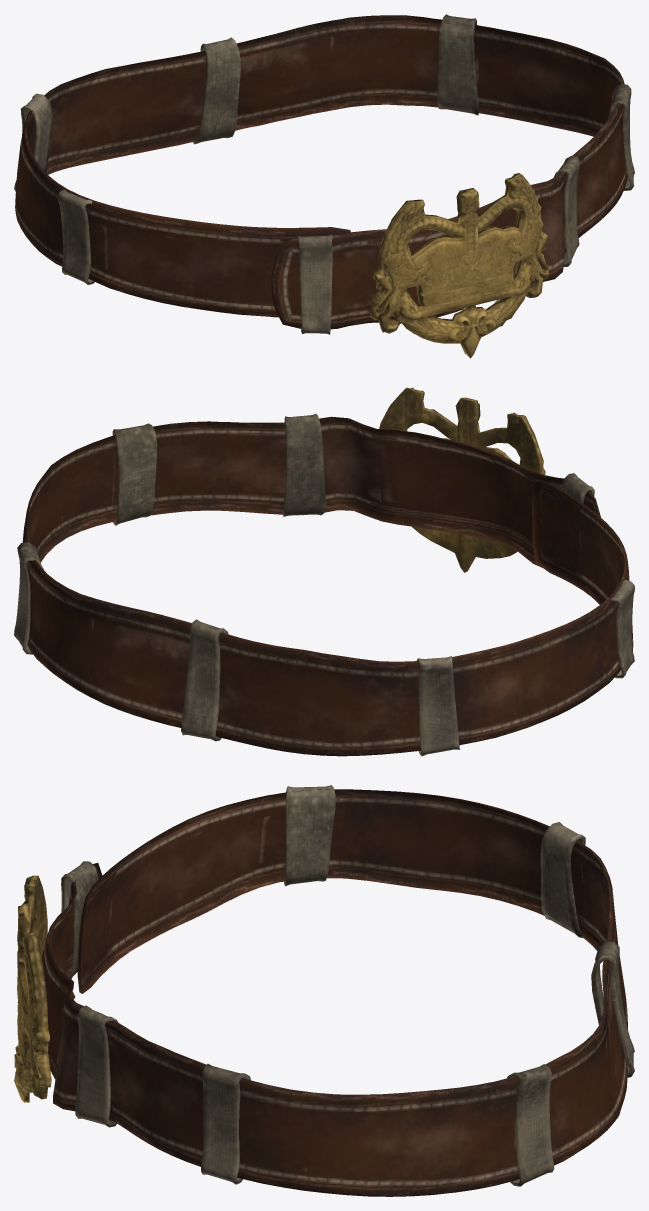
Rendered from SM_CinturonCauchero.glb.
The picture shows the model from 3 angles, top to bottom: view 1: azimuth 30°, elevation 25°; view 2: azimuth 150°, elevation 25°; view 3: azimuth 270°, elevation 25°; orthographic projection. The views are drawn at different scales.
Parts seen in each view (by area): view 1: Cinturon_Low, Chapa_Low, Seguros_Low; view 2: Cinturon_Low, Seguros_Low, Chapa_Low; view 3: Cinturon_Low, Seguros_Low, Chapa_Low.
Boxes of the visible parts, x1,y1,x2,y2 form: Cinturon_Low: (15, 15, 627, 329); Chapa_Low: (370, 173, 549, 358); Seguros_Low: (14, 14, 634, 334); Cinturon_Low: (22, 416, 633, 756); Seguros_Low: (14, 413, 634, 756); Chapa_Low: (379, 387, 545, 572); Cinturon_Low: (42, 789, 627, 1196); Seguros_Low: (61, 785, 634, 1186); Chapa_Low: (14, 875, 51, 1102).
Bounding box in the file's own units: 0.3044 × 0.0884 × 0.2545.
1 material, 1 textured.
